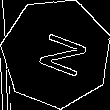N_W: (26, 26, 86, 81)
